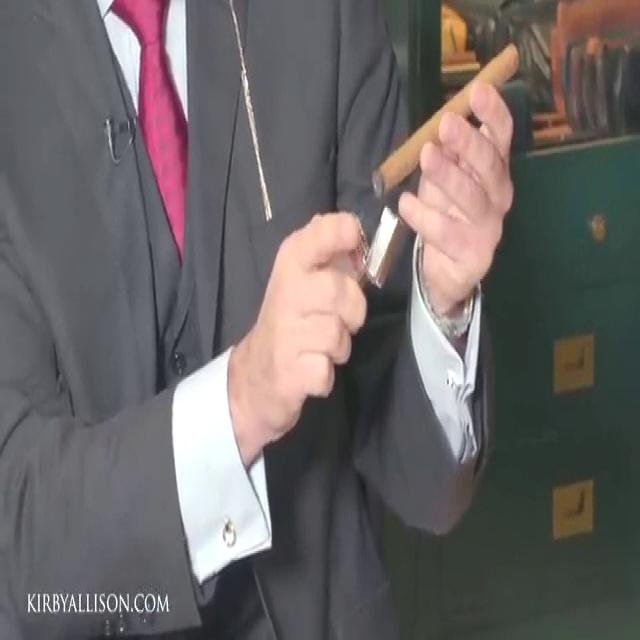Smooking: (379, 31, 541, 192)
